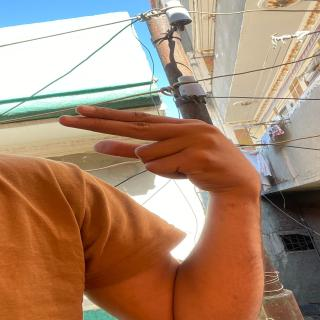DHELL: (48, 99, 293, 211)
